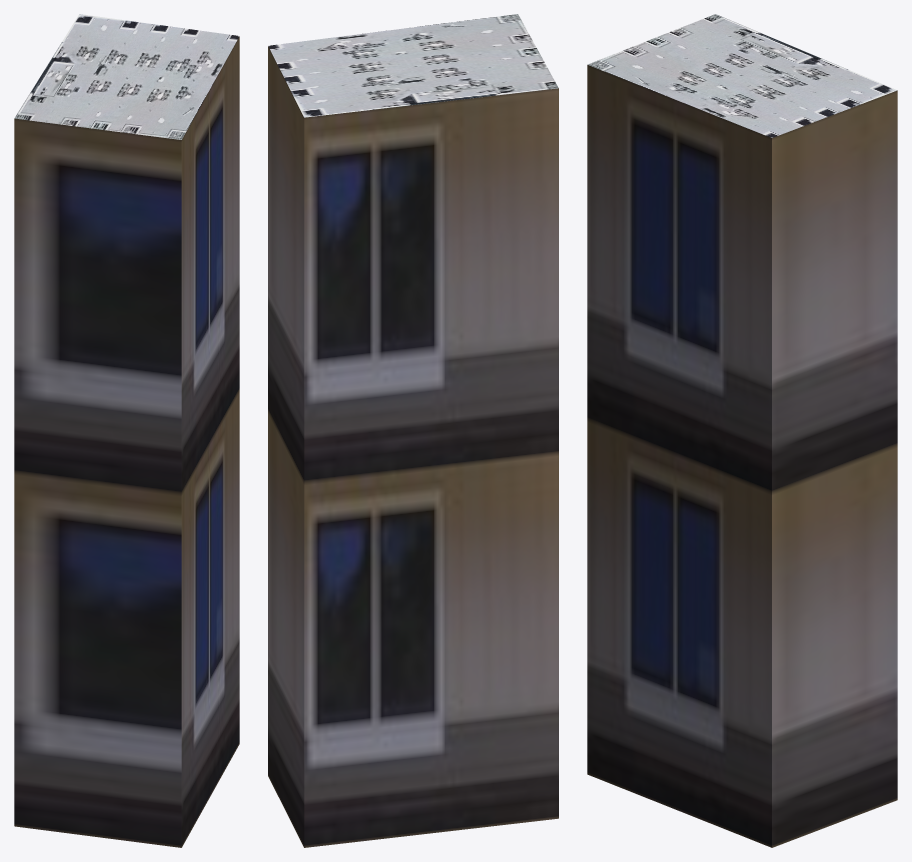
The model's file is ResTex__1715.fbx.
3 renders of one model, left to right at view 1: azimuth 30°, elevation 25°; view 2: azimuth 150°, elevation 25°; view 3: azimuth 270°, elevation 25°, orthographic. The views are drawn at different scales.
Parts seen in each view (by area): view 1: CityEngineMaterial_5_m, CityEngineMaterial_4_m; view 2: CityEngineMaterial_5_m, CityEngineMaterial_4_m; view 3: CityEngineMaterial_5_m, CityEngineMaterial_4_m.
Boxes of the visible parts, x1,y1,x2,y2 form: CityEngineMaterial_5_m: (14, 36, 239, 847); CityEngineMaterial_4_m: (14, 14, 239, 139); CityEngineMaterial_5_m: (268, 46, 558, 847); CityEngineMaterial_4_m: (268, 14, 558, 117); CityEngineMaterial_5_m: (587, 65, 897, 847); CityEngineMaterial_4_m: (587, 14, 897, 137).
Size of the model in its own units: 2.25 by 6 by 2.38.
Materials: 2 (2 with a texture image).
